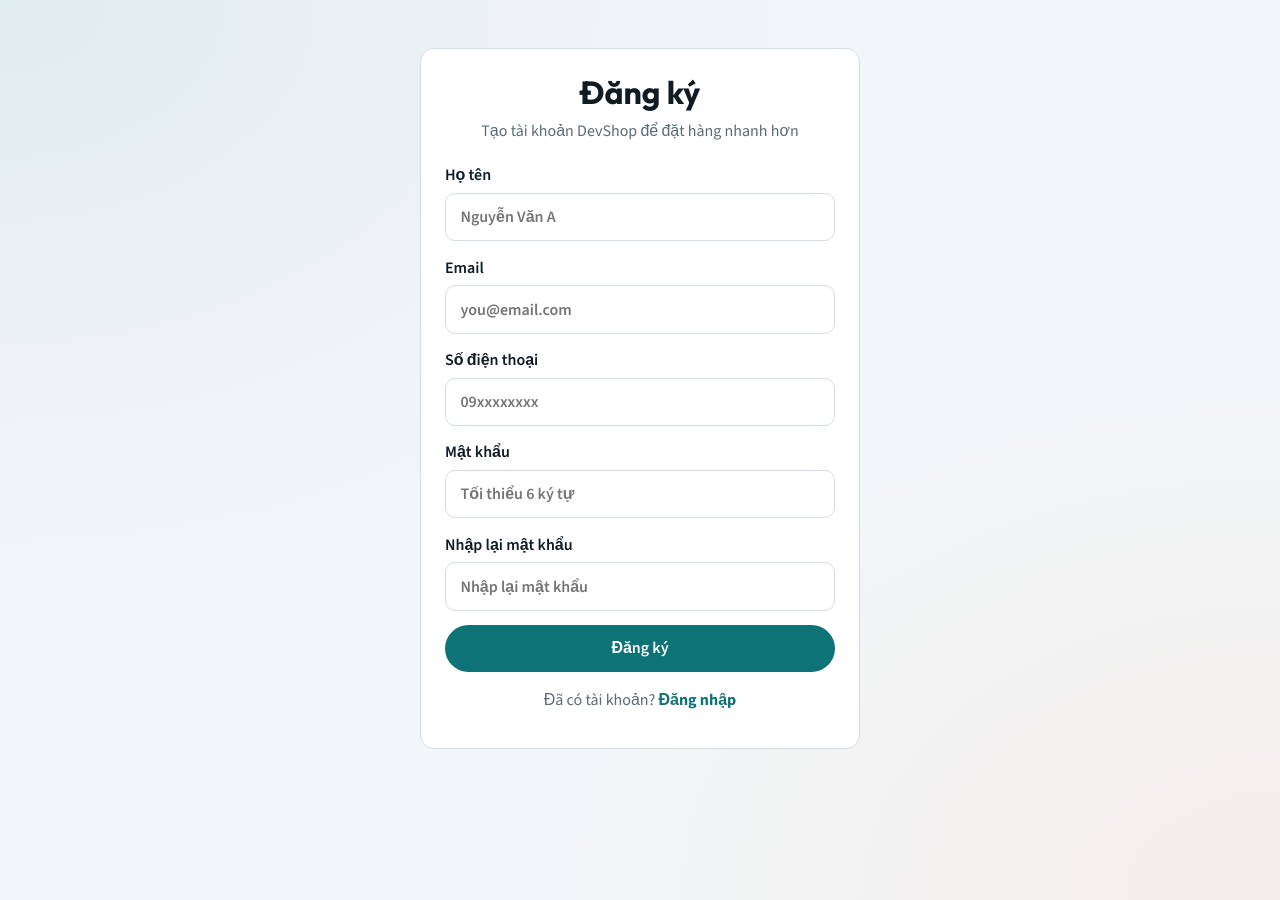
Test: Trang Register › bỏ trống trường bắt buộc: không gọi API
This screenshot has width=1280, height=900.
In the field labelled "Email": (640,310) [445,285,835,334], type "a@devshop.com"
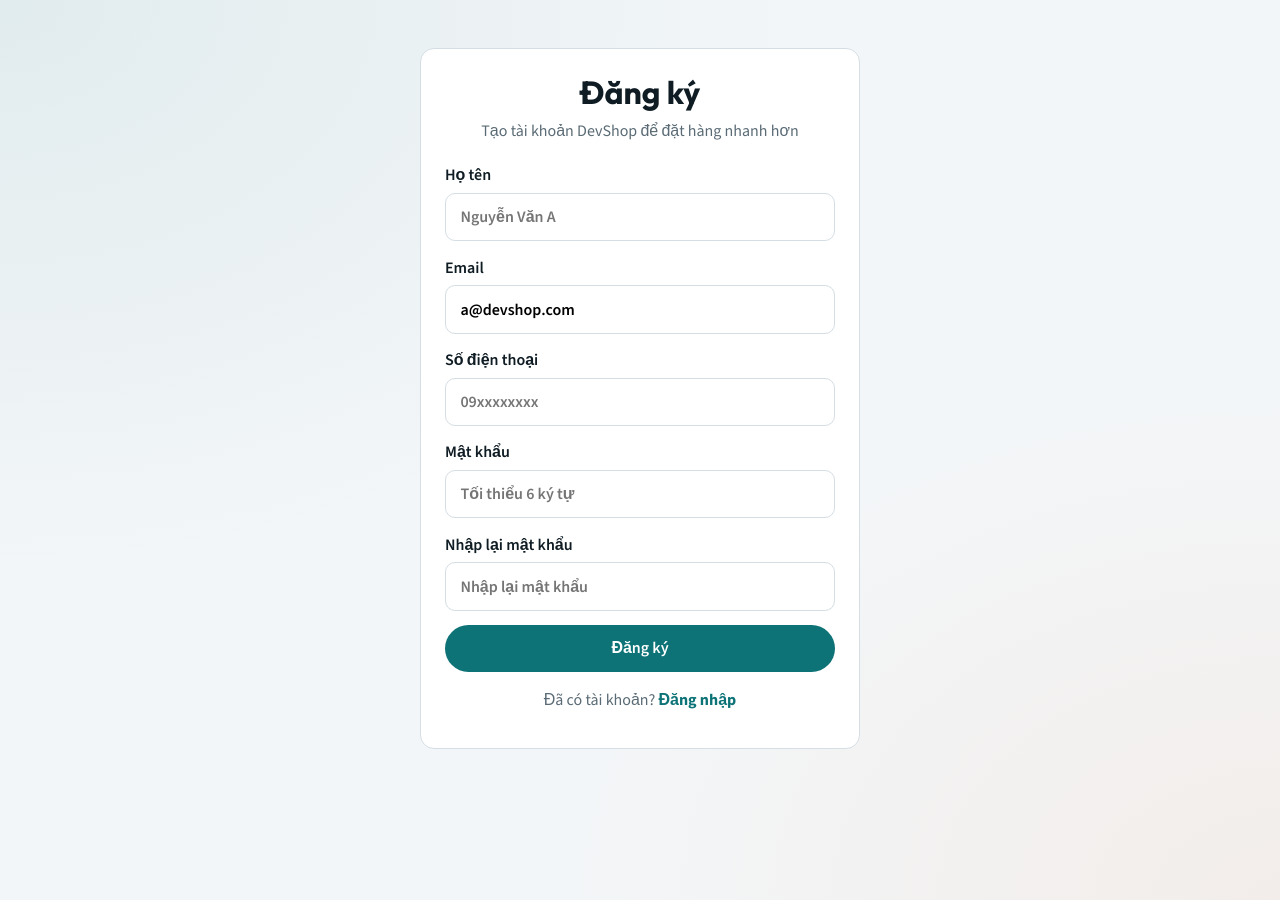
Click the button "Đăng ký": (640,648) [445,625,835,672]
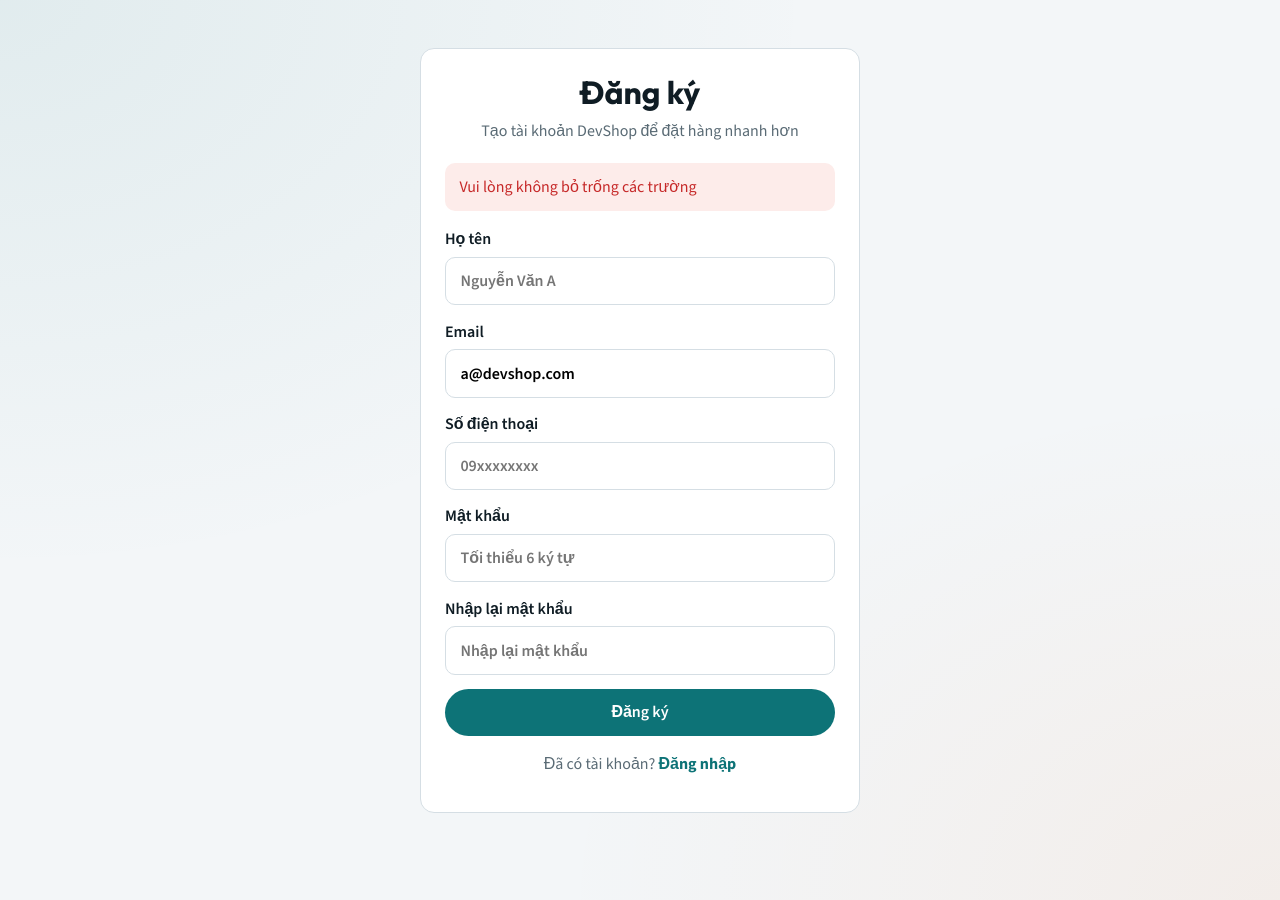
Check: the text "Vui lòng không bỏ trống các trường" is shown, box [445,163,835,211]
